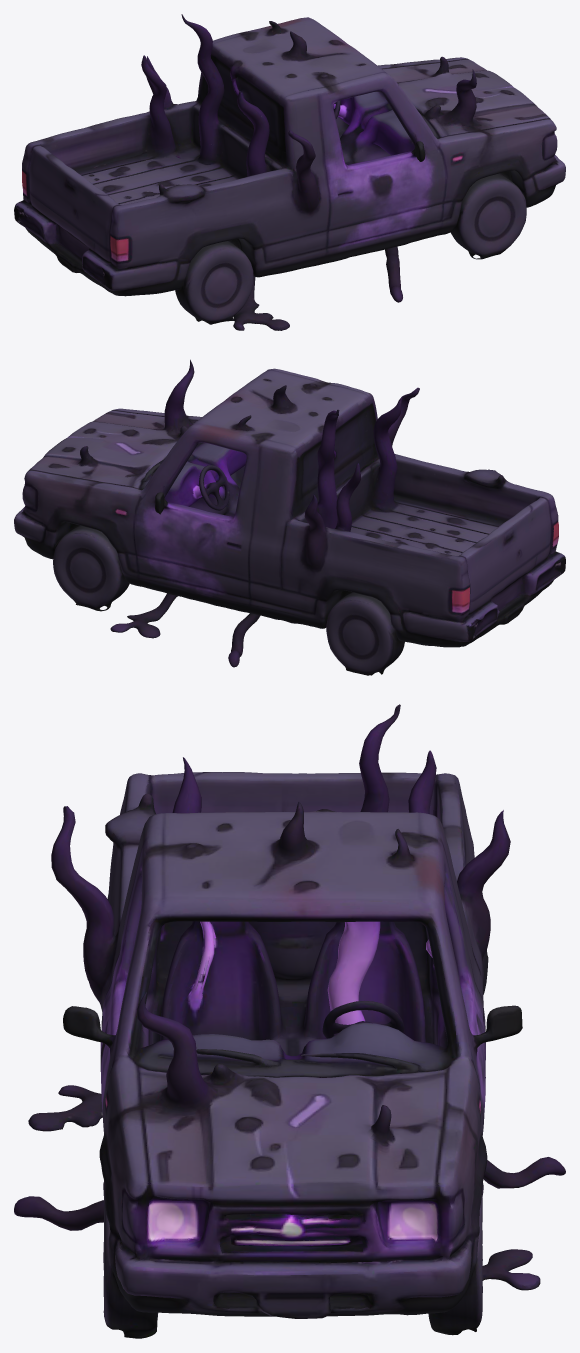
The model's file is SM_Vehicle_PickupTruck_02.fbx.
3 views of the same model, one above another, from view 1: azimuth 30°, elevation 25°; view 2: azimuth 150°, elevation 25°; view 3: azimuth 270°, elevation 25° (orthographic). The views are drawn at different scales.
Parts seen in each view (by area): view 1: SM_Vehicle_PickupTruck_02; view 2: SM_Vehicle_PickupTruck_02; view 3: SM_Vehicle_PickupTruck_02.
Part boxes in pixels (x1,y1,x2,y2): SM_Vehicle_PickupTruck_02: (14, 14, 565, 330); SM_Vehicle_PickupTruck_02: (14, 359, 565, 675); SM_Vehicle_PickupTruck_02: (14, 704, 565, 1338).
Size of the model in its own units: 0.9965 by 0.492 by 0.5831.
Materials: 1 (1 with a texture image).
